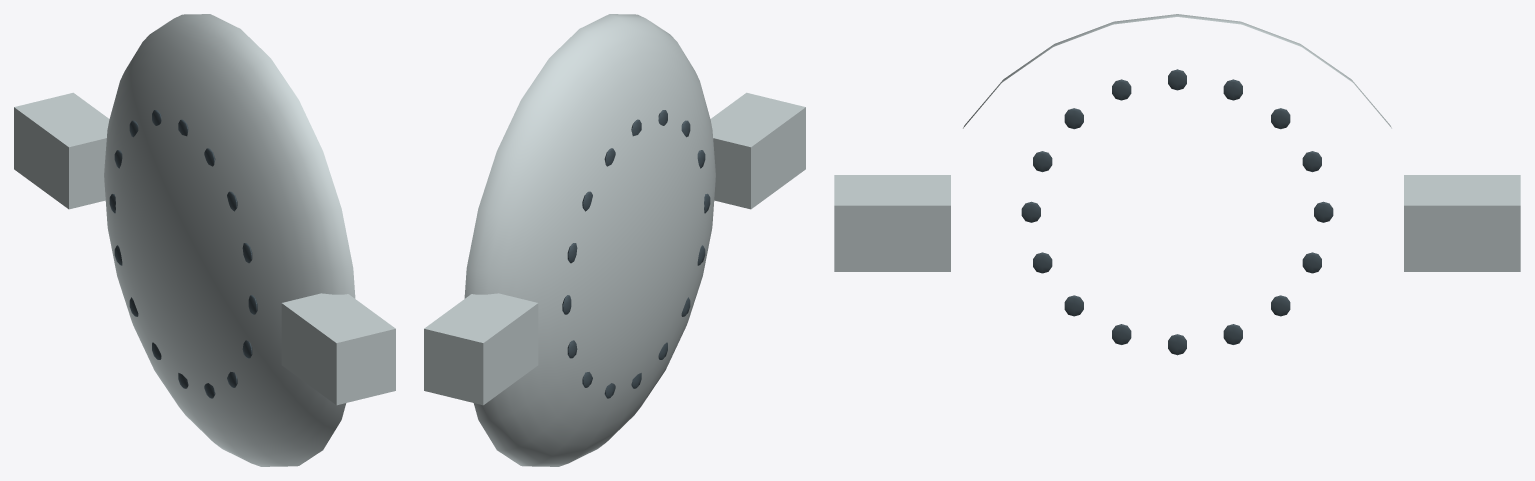
The model's file is colander.gltf.
3 views of the same model, side by side, from view 1: azimuth 30°, elevation 25°; view 2: azimuth 150°, elevation 25°; view 3: azimuth 270°, elevation 25° (orthographic). The views are drawn at different scales.
Bounding box in the file's own units: 0.12 × 0.68 × 0.94.
